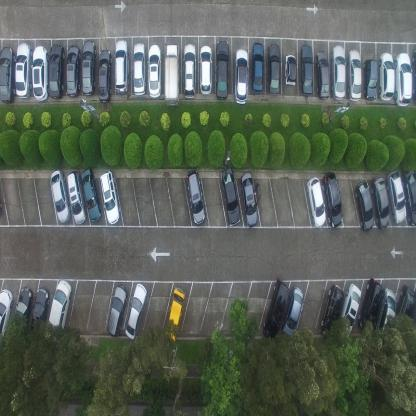car: (263, 279, 289, 339), (47, 279, 72, 338), (358, 277, 384, 333), (124, 282, 147, 340), (338, 283, 362, 338), (219, 167, 240, 228), (321, 283, 345, 336), (164, 286, 186, 342), (100, 170, 121, 226), (80, 166, 101, 222), (50, 168, 71, 224), (323, 171, 343, 228), (106, 284, 127, 338), (282, 286, 303, 339), (306, 174, 326, 229), (394, 284, 414, 339), (387, 170, 407, 224), (374, 288, 396, 337), (67, 169, 86, 225), (12, 285, 32, 338), (372, 176, 391, 231), (240, 171, 258, 229), (14, 40, 32, 98), (164, 42, 180, 107), (186, 170, 205, 224), (31, 42, 48, 101), (394, 51, 412, 106), (355, 180, 374, 232), (30, 286, 49, 338), (0, 44, 16, 105), (81, 38, 97, 97), (215, 38, 230, 100), (48, 42, 64, 100), (115, 37, 130, 96), (234, 46, 249, 104), (379, 51, 396, 100), (98, 49, 113, 104), (148, 42, 162, 100), (347, 47, 362, 101), (332, 43, 346, 100), (183, 42, 197, 98), (0, 287, 13, 347), (66, 43, 80, 98), (300, 43, 314, 96), (315, 50, 330, 98), (251, 40, 264, 95), (267, 40, 280, 95), (402, 167, 414, 225), (199, 44, 212, 96), (133, 40, 145, 96), (363, 57, 377, 101), (283, 53, 297, 87), (412, 48, 416, 106)
